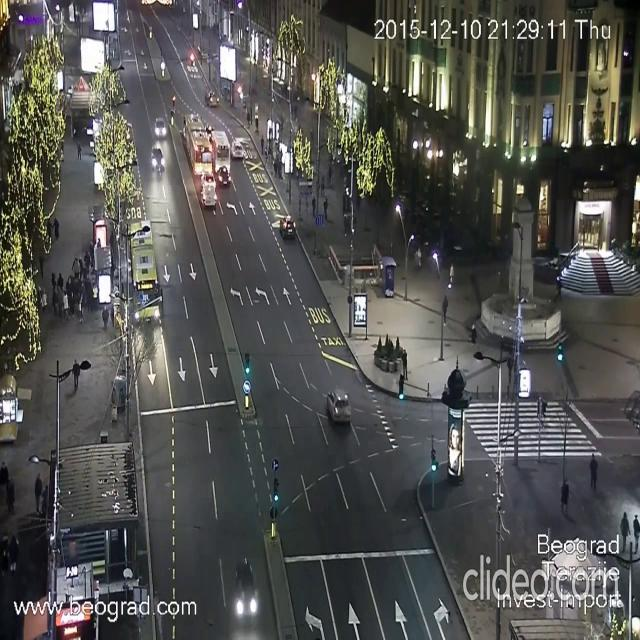bus: (131, 222, 161, 326), (181, 114, 213, 176), (212, 129, 230, 175)
car: (232, 558, 258, 619), (326, 390, 352, 425), (200, 177, 218, 207), (279, 214, 295, 239), (152, 146, 164, 173), (204, 88, 221, 107), (153, 115, 166, 134), (233, 139, 243, 157)
